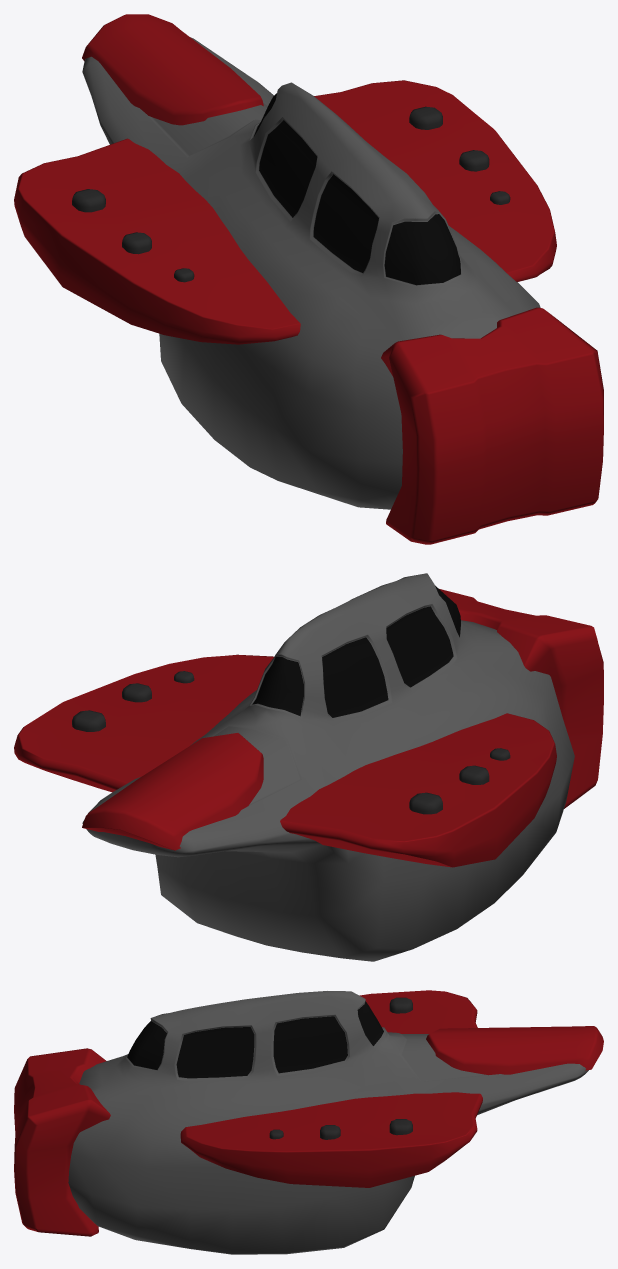
The model's file is Ship_Boss_02_Hull.fbx.
The picture shows the model from 3 angles, top to bottom: view 1: azimuth 30°, elevation 25°; view 2: azimuth 150°, elevation 25°; view 3: azimuth 270°, elevation 25°; orthographic projection. The views are drawn at different scales.
Visible parts, largest first — view 1: Ship_Boss_02_Hull; view 2: Ship_Boss_02_Hull; view 3: Ship_Boss_02_Hull.
Part boxes in pixels (left/top/right/bottom): Ship_Boss_02_Hull: left=14, top=14, right=603, bottom=544; Ship_Boss_02_Hull: left=14, top=573, right=603, bottom=961; Ship_Boss_02_Hull: left=14, top=990, right=603, bottom=1254.
Bounding box in the file's own units: 749 × 532 × 1182.
